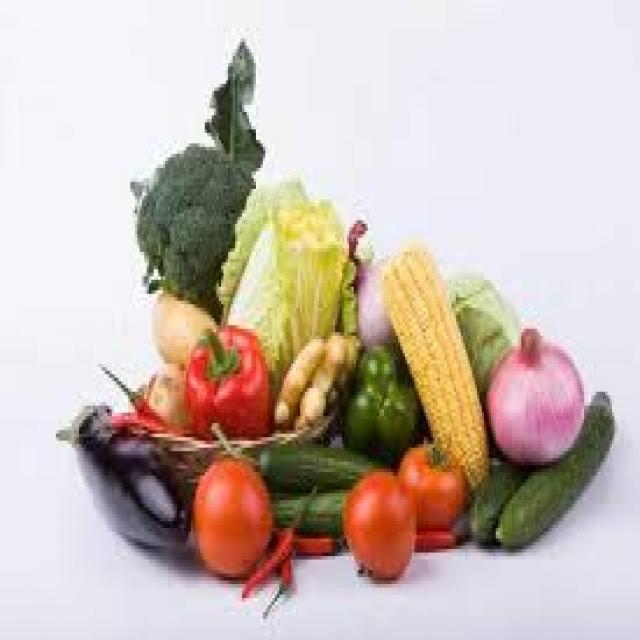organic waste: (379, 241, 484, 490), (51, 395, 186, 549), (132, 140, 254, 301), (493, 388, 612, 549), (214, 171, 317, 357), (484, 328, 584, 468), (181, 322, 270, 437), (191, 455, 270, 577), (258, 426, 394, 496), (277, 203, 347, 336), (342, 465, 414, 581), (449, 269, 519, 388), (200, 35, 263, 161), (346, 346, 416, 458), (242, 486, 312, 598), (346, 206, 396, 343), (396, 434, 468, 528), (98, 356, 177, 434), (149, 286, 214, 364), (270, 482, 361, 532), (303, 332, 349, 430), (468, 455, 519, 542), (272, 325, 316, 420), (133, 364, 186, 434), (261, 521, 291, 616), (105, 406, 177, 437), (412, 518, 468, 552), (294, 532, 344, 560)
